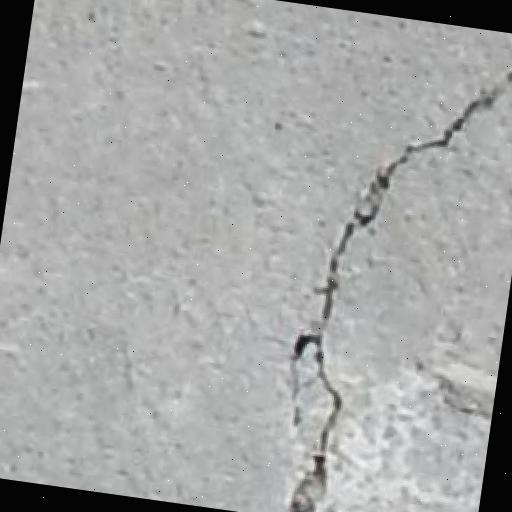spalling: (267, 41, 512, 512)
